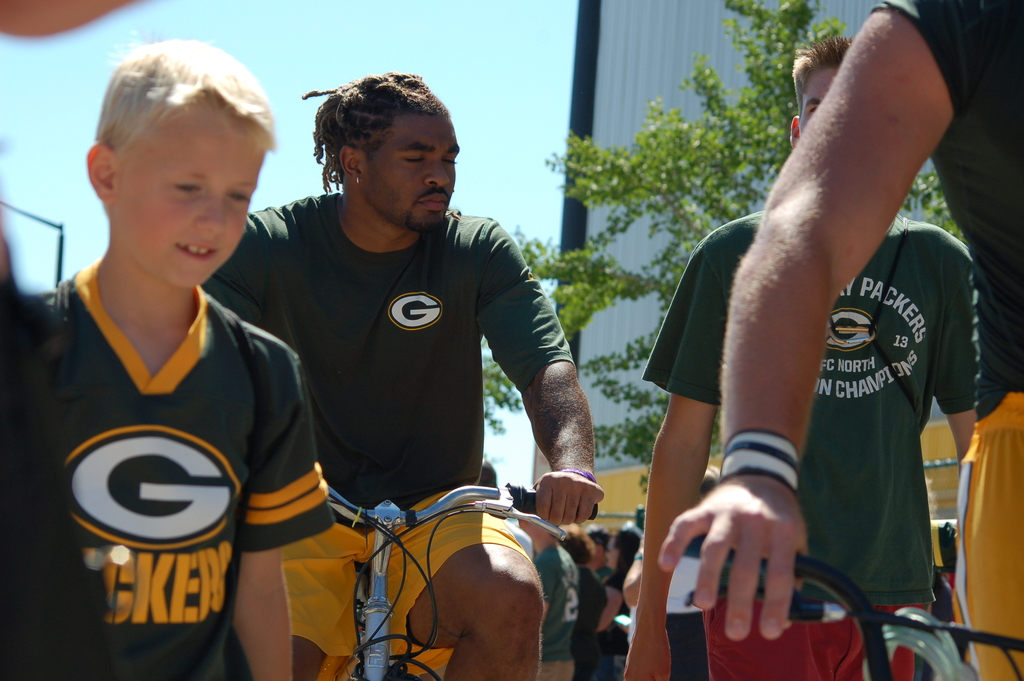Human_hand: (659, 480, 810, 644), (532, 473, 607, 542), (620, 634, 672, 680)
